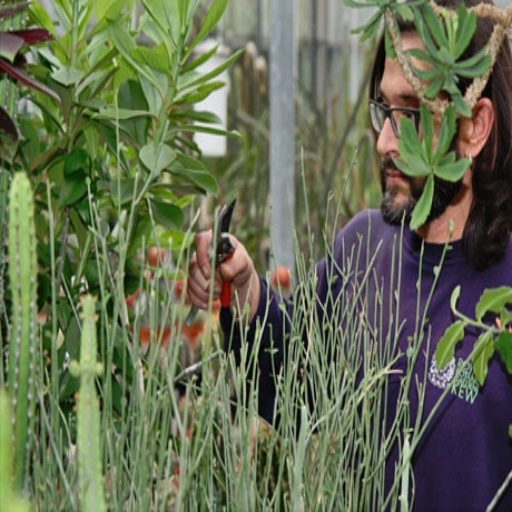hand: (184, 224, 251, 307)
